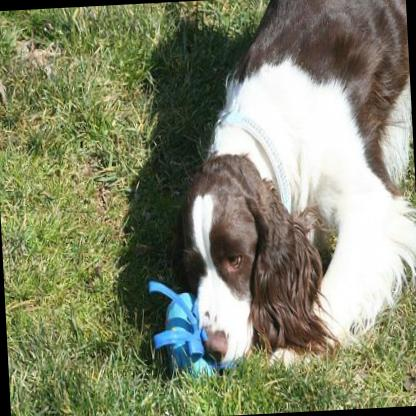English_springer: (153, 0, 416, 369)
